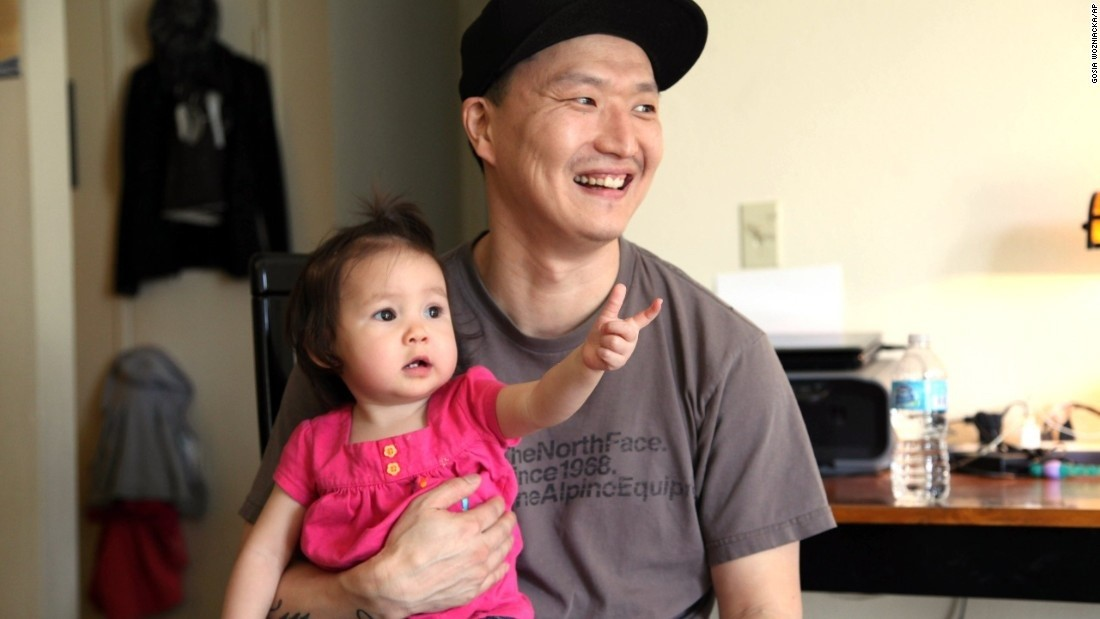face_no_mask: (470, 1, 668, 245), (292, 213, 458, 397)
